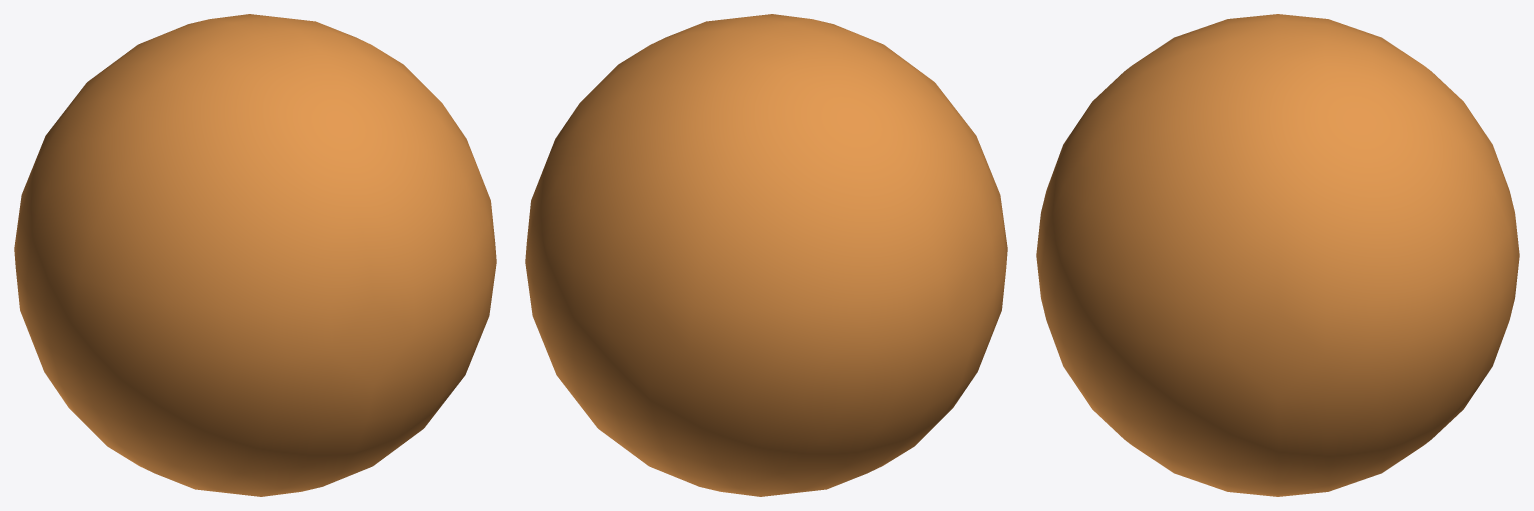
Rendered from expected.gltf.
3 renders of one model, left to right at view 1: azimuth 30°, elevation 25°; view 2: azimuth 150°, elevation 25°; view 3: azimuth 270°, elevation 25°, orthographic.
Bounding box in the file's own units: 30 × 30 × 30.
